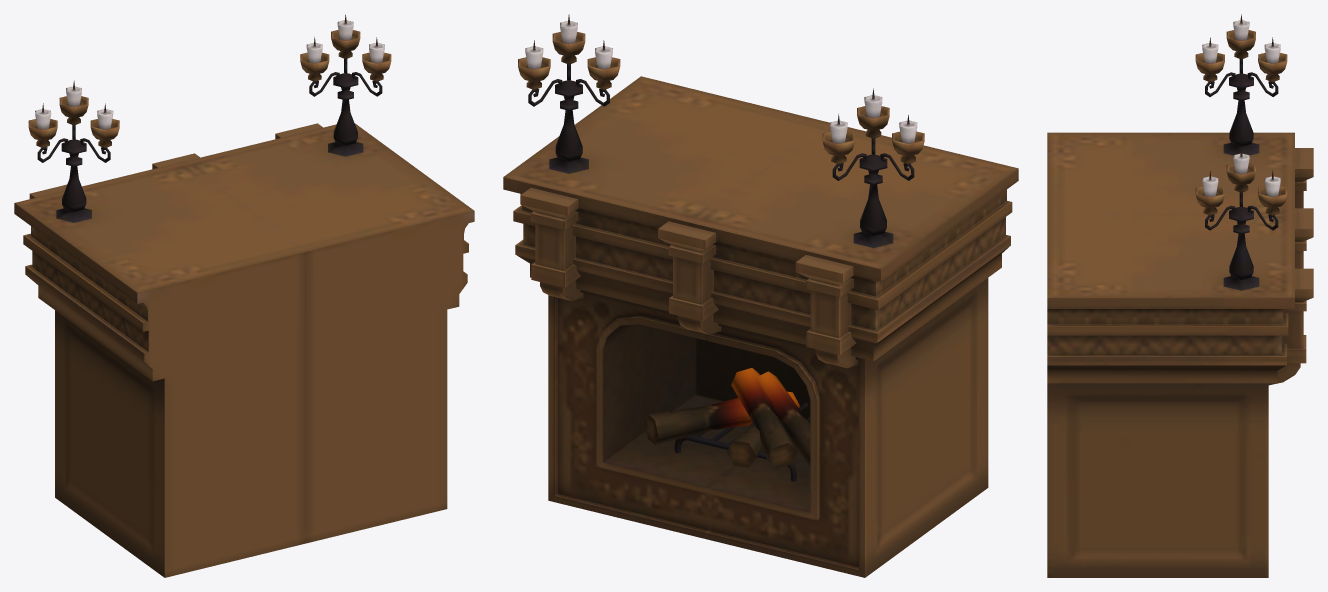
File: FirePlace_02.gltf
3 views of the same model, side by side, from view 1: azimuth 30°, elevation 25°; view 2: azimuth 150°, elevation 25°; view 3: azimuth 270°, elevation 25° (orthographic). The views are drawn at different scales.
Parts seen in each view (by area): view 1: FirePlace_02; view 2: FirePlace_02; view 3: FirePlace_02.
Boxes of the visible parts, x1=… form: FirePlace_02: x1=14, y1=14, x2=474, y2=577; FirePlace_02: x1=503, y1=14, x2=1018, y2=577; FirePlace_02: x1=1047, y1=14, x2=1313, y2=577.
Bounding box in the file's own units: 61.77 × 69.35 × 40.5.
Materials: 1 (1 with a texture image).
